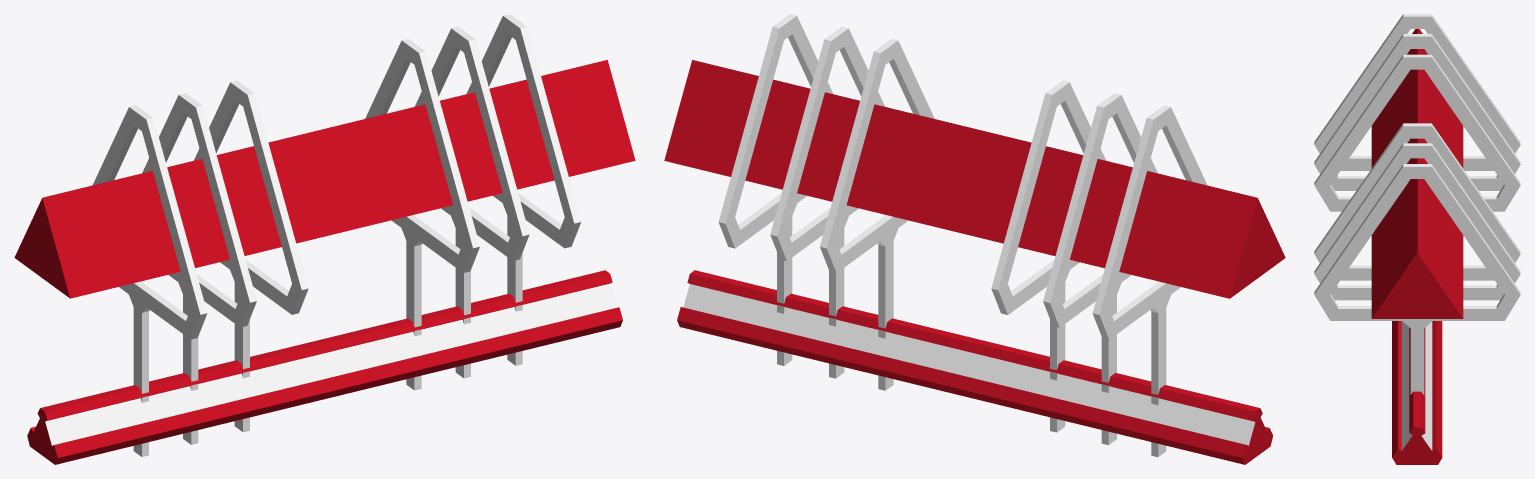
File: pagar.glb
3 renders of one model, left to right at view 1: azimuth 30°, elevation 25°; view 2: azimuth 150°, elevation 25°; view 3: azimuth 270°, elevation 25°, orthographic. The views are drawn at different scales.
Parts seen in each view (by area): view 1: border; view 2: border; view 3: border.
Part boxes in pixels (box(x1,y1,x2,y2)): border: box(14, 14, 635, 464); border: box(664, 14, 1285, 464); border: box(1314, 14, 1520, 464).
Bounding box in the file's own units: 3.99 × 2.3 × 1.54.
